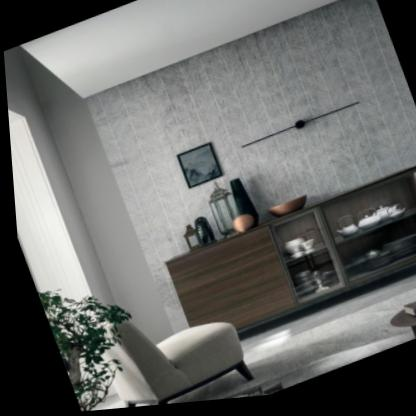Cupboard: (161, 174, 416, 339)
